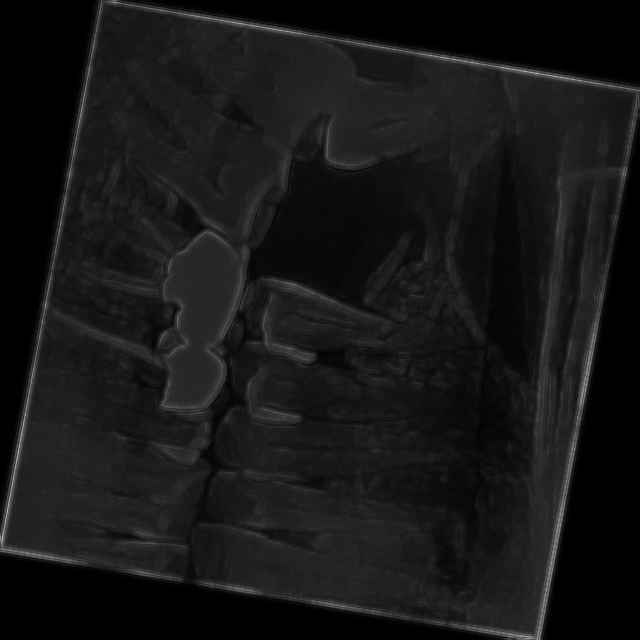Class 0- No endodontic treatment: (32, 291, 242, 408)
Class 1- complete endodontic treatment: (65, 170, 274, 347)
